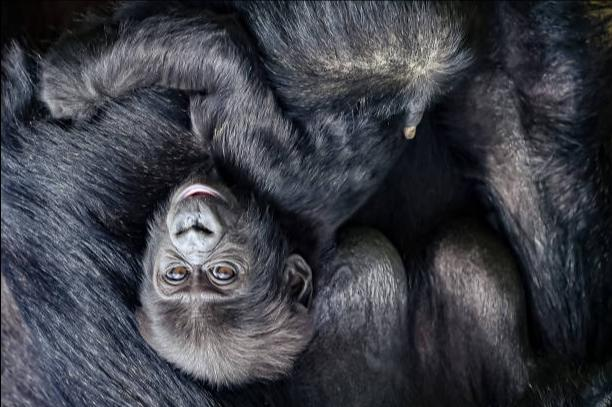gorille_Autres: (69, 0, 456, 400)
